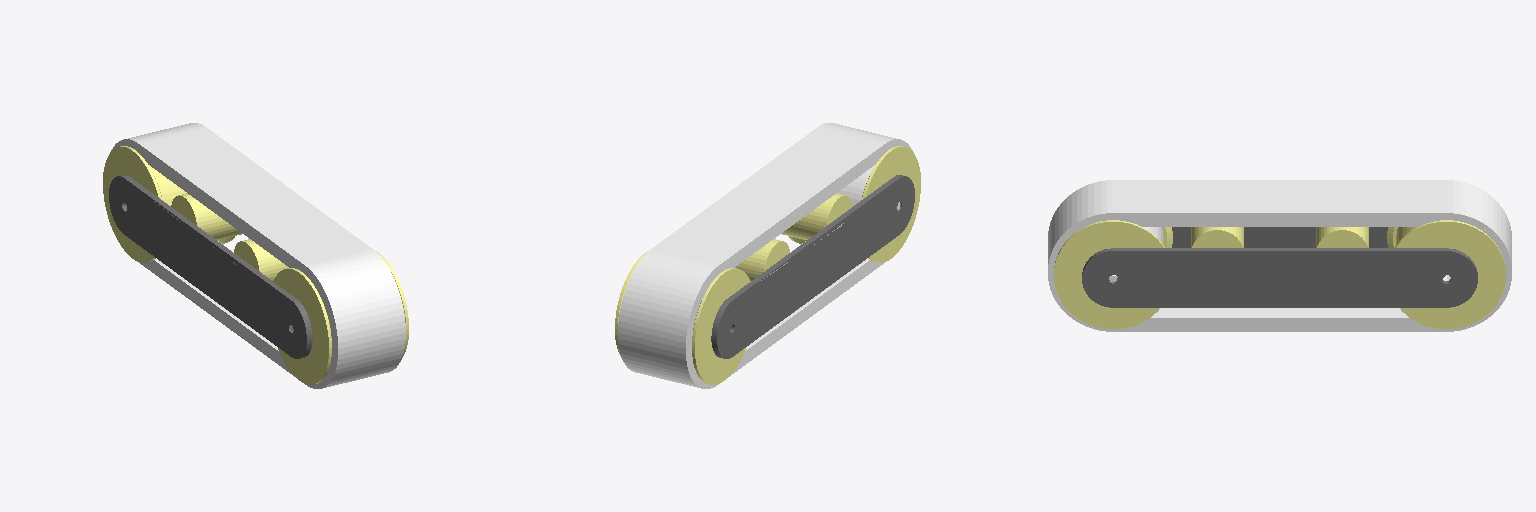
File: flipper_rb.obj
3 views of the same model, side by side, from view 1: azimuth 30°, elevation 25°; view 2: azimuth 150°, elevation 25°; view 3: azimuth 270°, elevation 25° (orthographic).
Bounding box in the file's own units: 107 × 126 × 446.